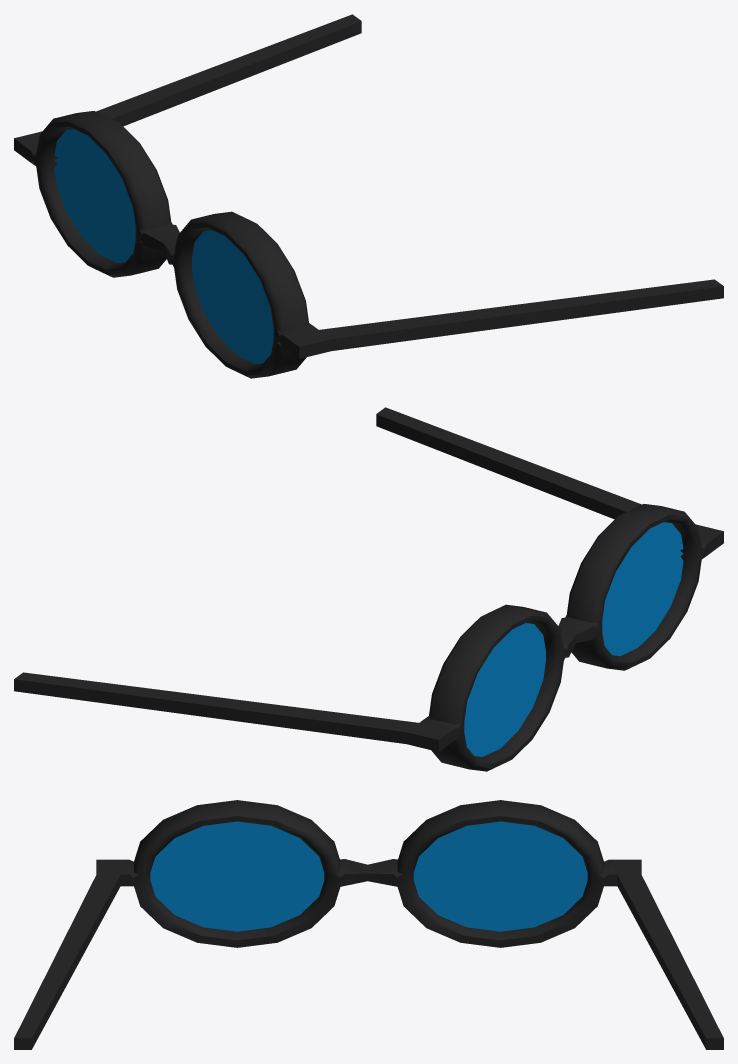
File: Glasses03.fbx
3 renders of one model, top to bottom at view 1: azimuth 30°, elevation 25°; view 2: azimuth 150°, elevation 25°; view 3: azimuth 270°, elevation 25°, orthographic. The views are drawn at different scales.
Visible parts, largest first — view 1: Glasses03; view 2: Glasses03; view 3: Glasses03.
Part boxes in pixels (left/top/right/bottom): Glasses03: left=14, top=14, right=723, bottom=378; Glasses03: left=14, top=407, right=723, bottom=771; Glasses03: left=14, top=800, right=723, bottom=1049.
Bounding box in the file's own units: 0.4858 × 0.8187 × 0.1718.
